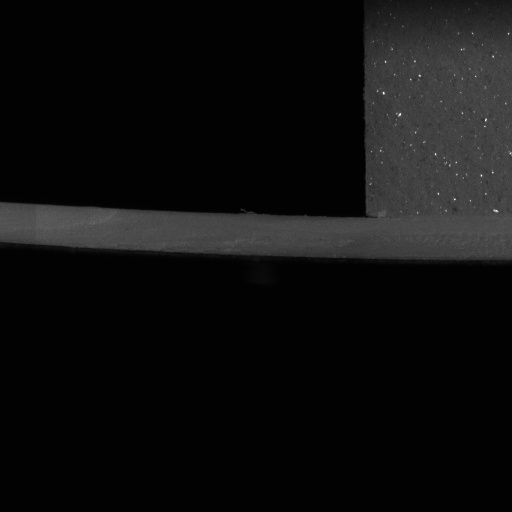changdai: (0, 201, 366, 261)
